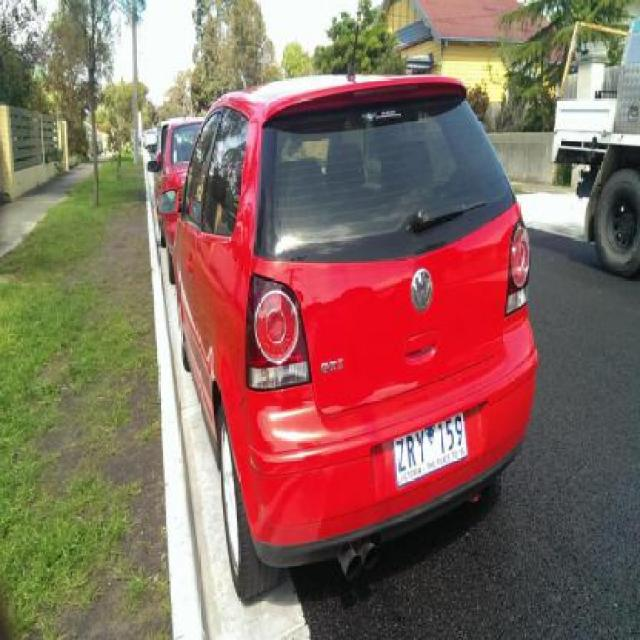License-Plates: (386, 409, 474, 493)
